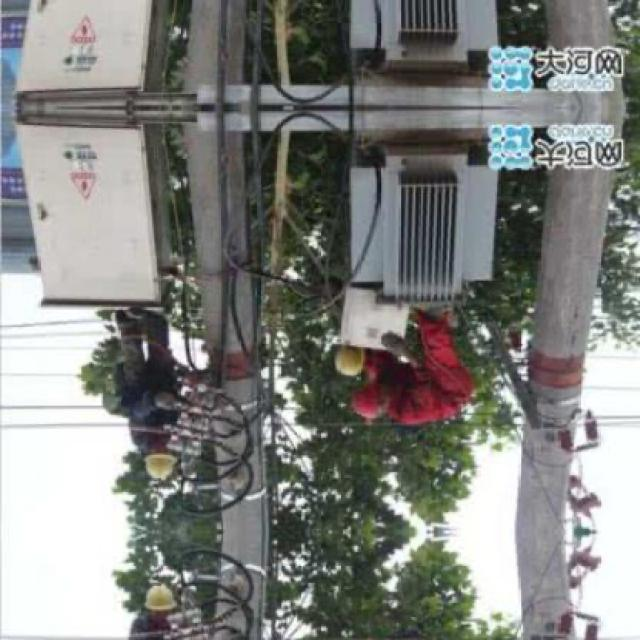con casco: (337, 376, 400, 441)
